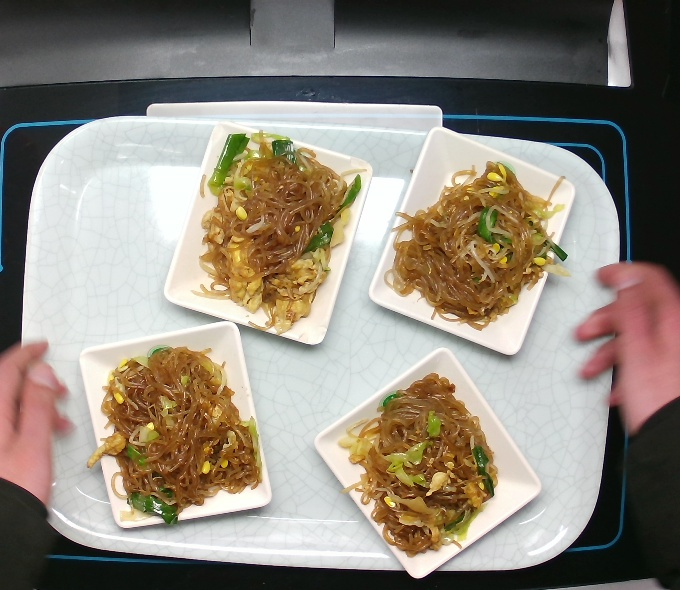wcq-FenSiChaoDan: (184, 127, 369, 340), (78, 339, 268, 531), (377, 152, 575, 333), (329, 362, 509, 561)
